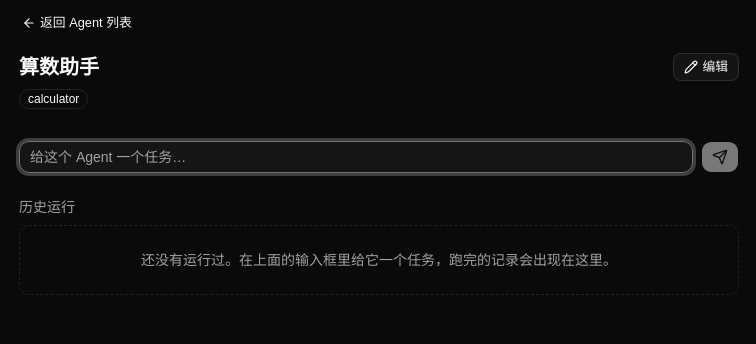
取消运行（issue #79） › 取消之后徽章显示"已取消"，用的是后端返回的那条 run 的状态
This screenshot has width=756, height=344.
Expected: the heading "算数助手" is shown, [19,53,99,81]
Type "算一下 1+1" into the field with placeholder "给这个 Agent 一个任务…" at {"x": 356, "y": 157}, box [19,141,693,173]
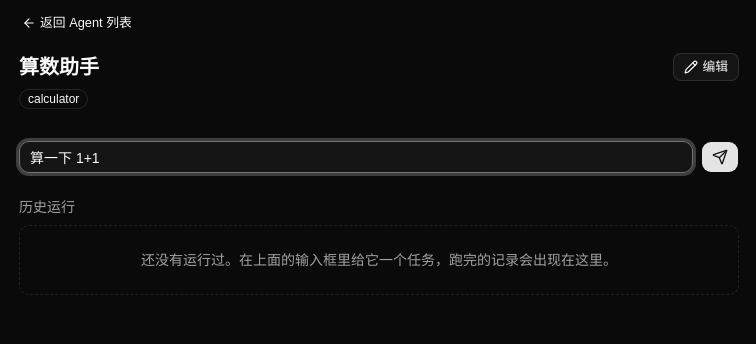
Click the button named "运行" at {"x": 720, "y": 157}, box [701,141,739,173]
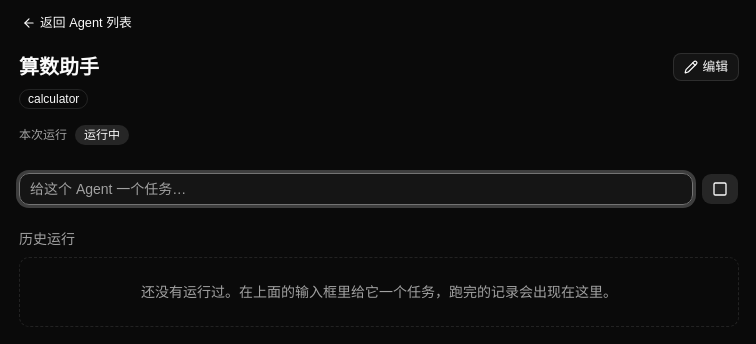
Click the button named "取消运行" at {"x": 720, "y": 189}, box [701,173,739,205]
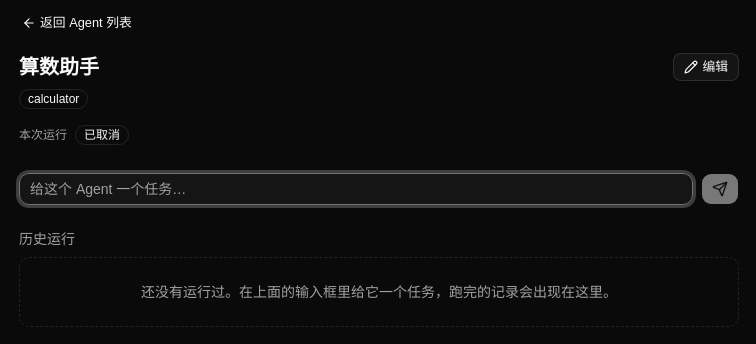
Now the icon "已取消" is shown, box [75,125,129,145]
